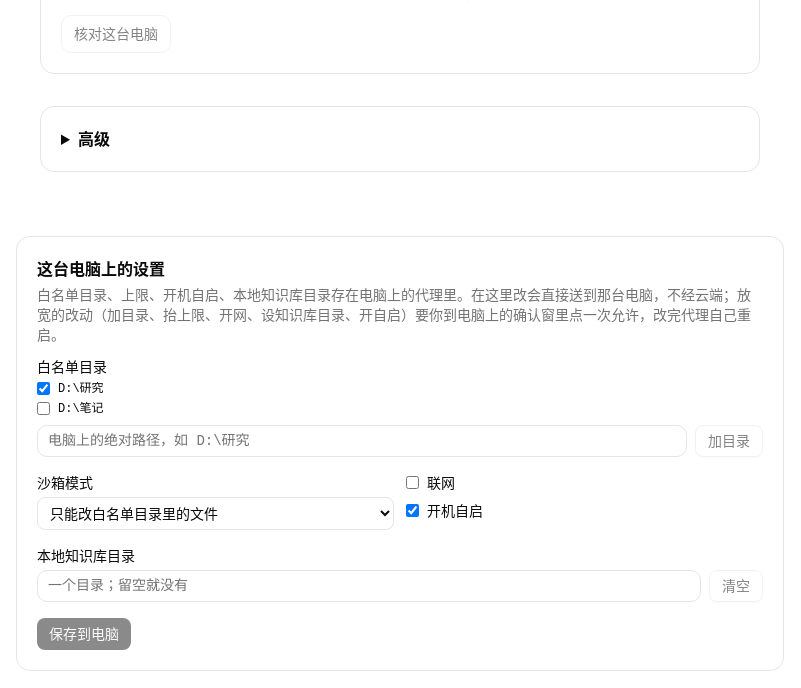
Test case: 设置分三类（0021） › 我的电脑：代理那头的设置直接改——勾目录、开联网，保存送到那台电脑（经回环口）
The width and height of the screenshot is (801, 688).
(page scrolled)
Expected: the checkbox labelled "D:\\研究" is checked, [37,382,50,395]
Click the checkbox labelled "D:\\笔记".
click(44, 409)  # box [37,402,50,415]
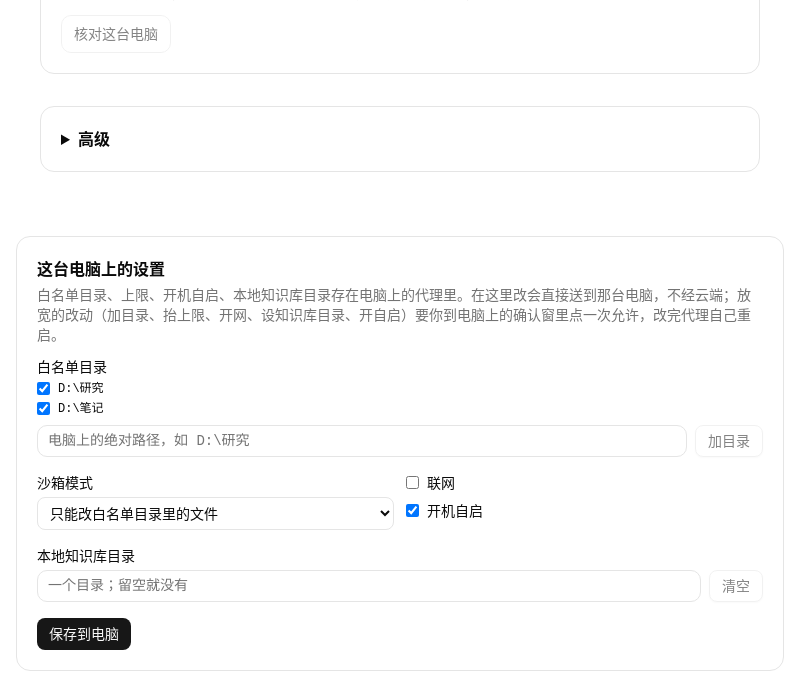
Click the checkbox labelled "联网".
click(412, 483)  # box [406,476,419,489]
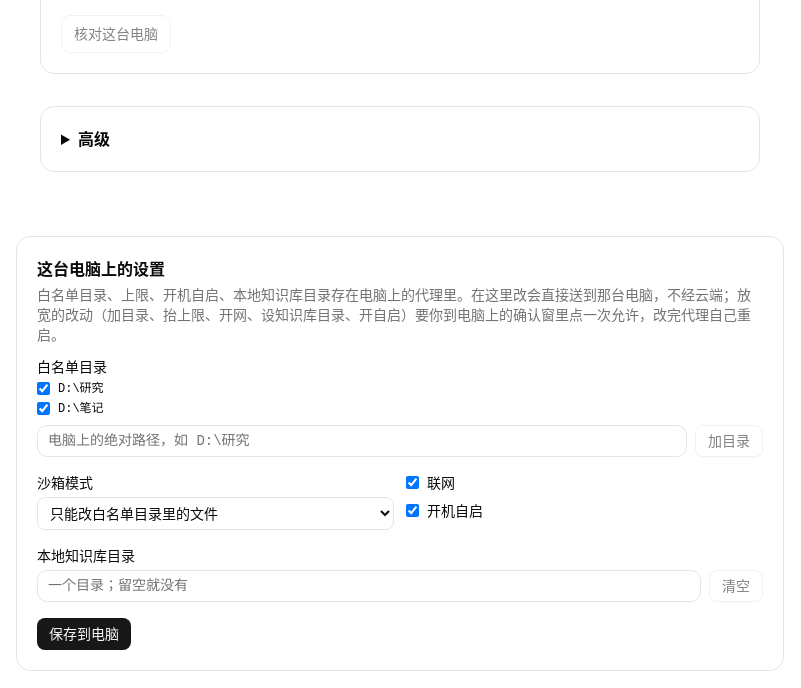
Click the button "保存到电脑".
click(84, 634)  # box [37,618,131,650]
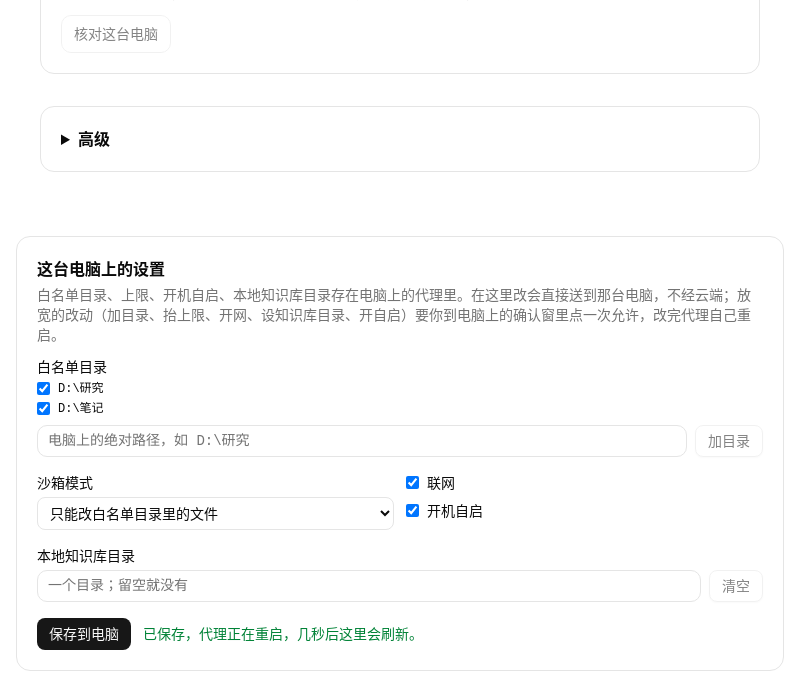
Expected: the message shows "已保存", [143,625,423,642]
